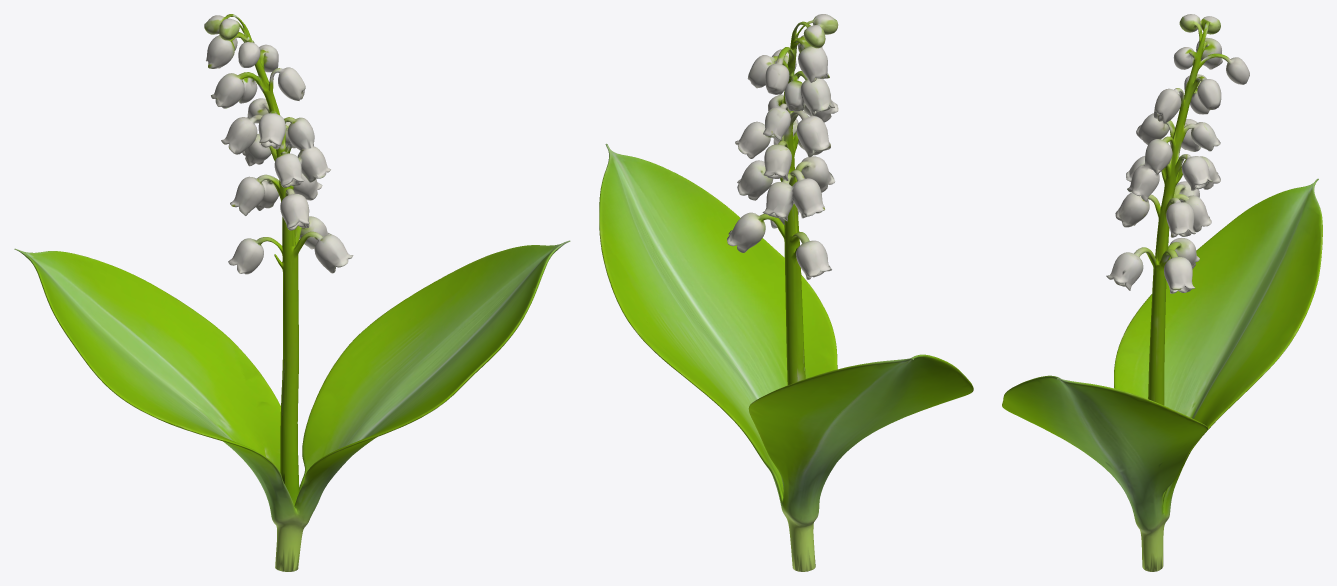
File: linglan.glb
3 views of the same model, side by side, from view 1: azimuth 30°, elevation 25°; view 2: azimuth 150°, elevation 25°; view 3: azimuth 270°, elevation 25° (orthographic). The views are drawn at different scales.
Visible parts, largest first — view 1: node_0; view 2: node_0; view 3: node_0.
Part boxes in pixels (<box>): node_0: <box>14,14,570,571</box>; node_0: <box>599,14,973,571</box>; node_0: <box>1002,14,1322,571</box>.
Bounding box in the file's own units: 0.9456 × 1.16 × 0.6327.
1 material, 1 textured.
